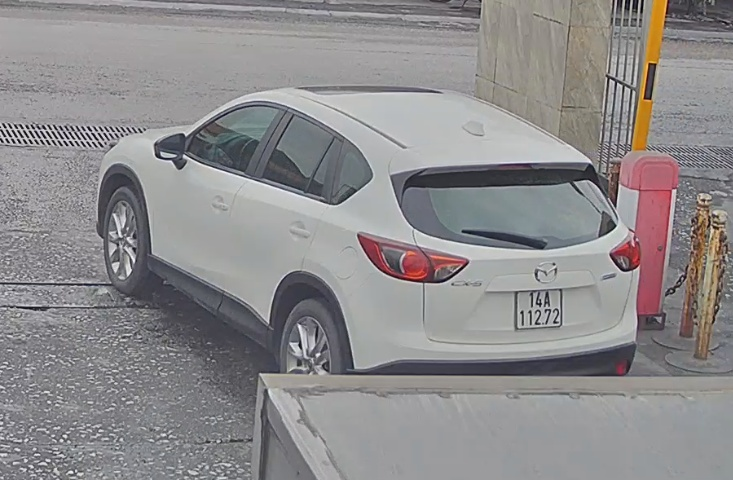vehicle plate: (508, 283, 567, 333)
